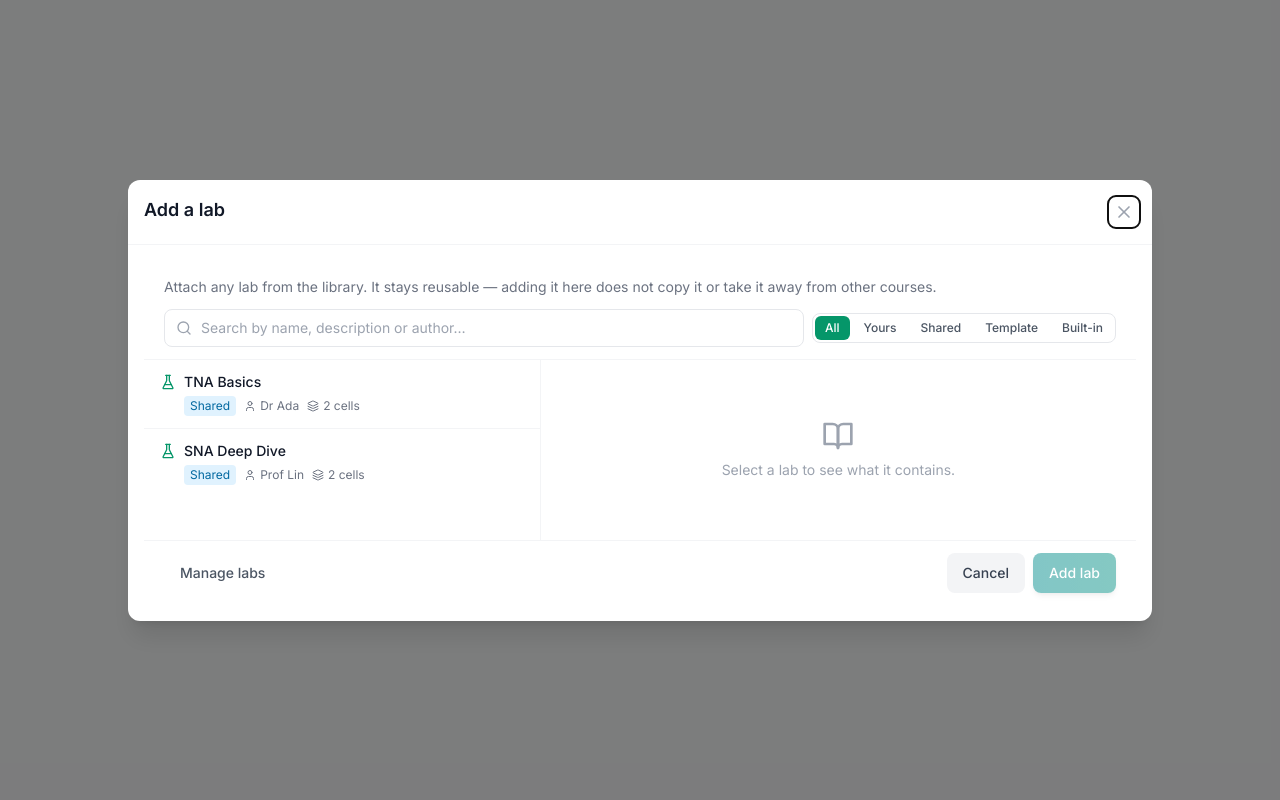
LabPickerModal library › filters by name, description and author
Type "Lin" into the field with placeholder "Search by name, description or author…" at (484, 328), box [164,308,804,346]
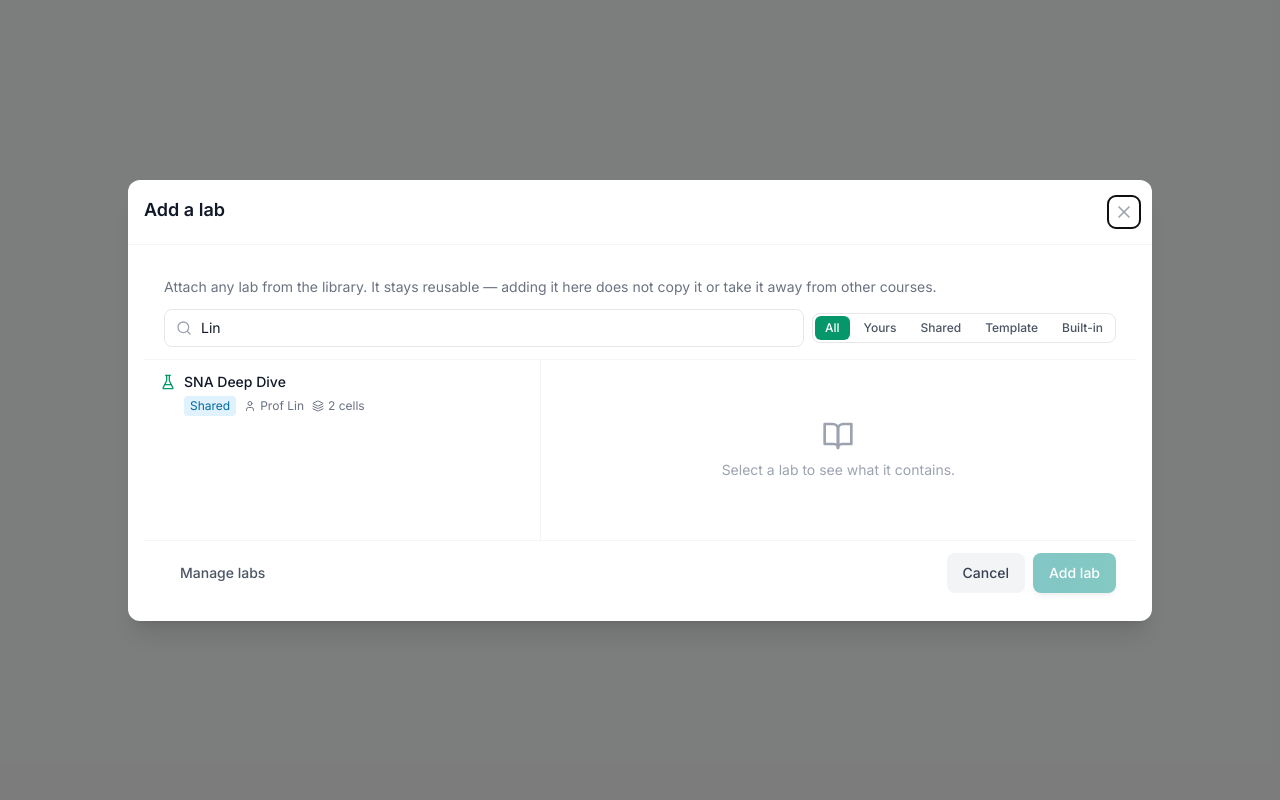
Expected: the text "SNA Deep Dive" is shown, [184,372,286,392]
Result: the button "TNA Basics" is gone
